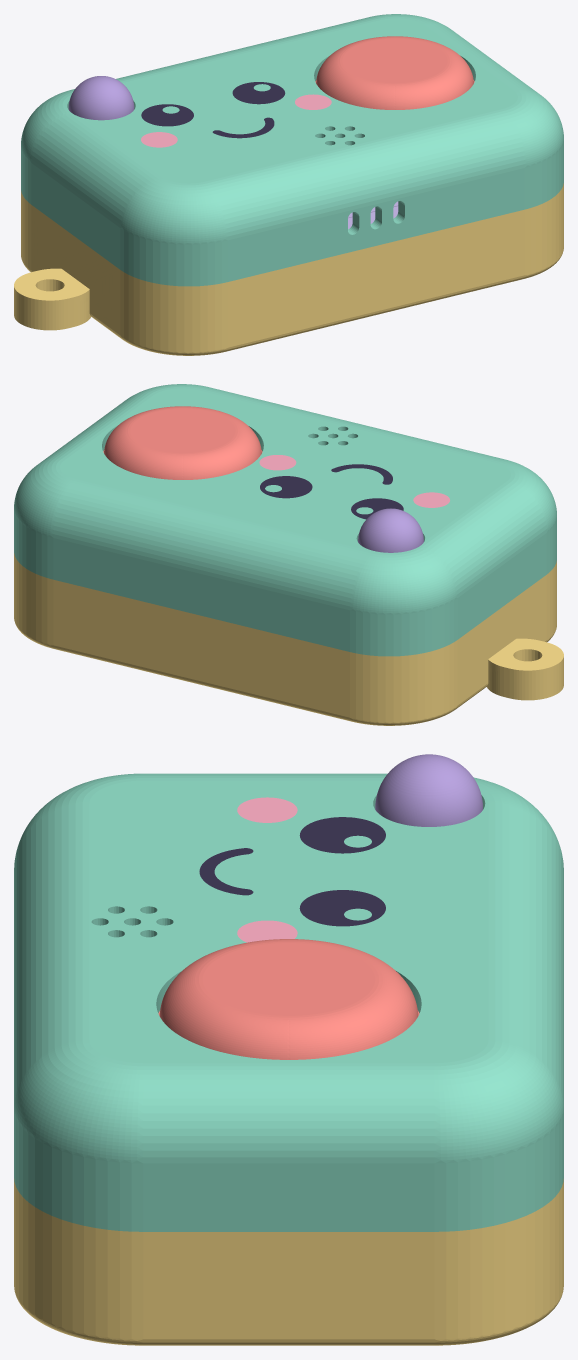
3 renders of one model, top to bottom at view 1: azimuth 30°, elevation 25°; view 2: azimuth 150°, elevation 25°; view 3: azimuth 270°, elevation 25°, orthographic. The views are drawn at different scales.
Parts seen in each view (by area): view 1: Lid, Base, Silence Button, PIR Dome, Eye L, Eye R, Cheek L, Cheek R; view 2: Lid, Base, Silence Button, PIR Dome, Eye R, Eye L, Cheek L, Cheek R; view 3: Lid, Base, Silence Button, PIR Dome, Eye R, Eye L, Cheek L, Cheek R, Smile.
Part boxes in pixels (x1,y1,x2,y2): Lid: (21, 14, 563, 286); Base: (14, 183, 563, 355); Silence Button: (315, 36, 474, 109); PIR Dome: (68, 76, 134, 120); Eye L: (141, 104, 193, 126); Eye R: (232, 82, 285, 104); Cheek L: (141, 132, 177, 147); Cheek R: (295, 94, 331, 109); Lid: (14, 384, 556, 656); Base: (14, 553, 563, 725); Silence Button: (103, 406, 262, 479); PIR Dome: (358, 508, 423, 552); Eye R: (260, 476, 312, 498); Eye L: (351, 498, 403, 519); Cheek L: (413, 492, 449, 507); Cheek R: (259, 455, 296, 470); Lid: (14, 773, 563, 1231); Base: (14, 1179, 563, 1345); Silence Button: (158, 939, 419, 1059); PIR Dome: (375, 754, 482, 826); Eye R: (299, 890, 385, 926); Eye L: (299, 817, 385, 853); Cheek L: (237, 797, 297, 822); Cheek R: (237, 920, 297, 942); Smile: (199, 848, 253, 895).
Bounding box in the file's own units: 0.086 × 0.0305 × 0.051.
